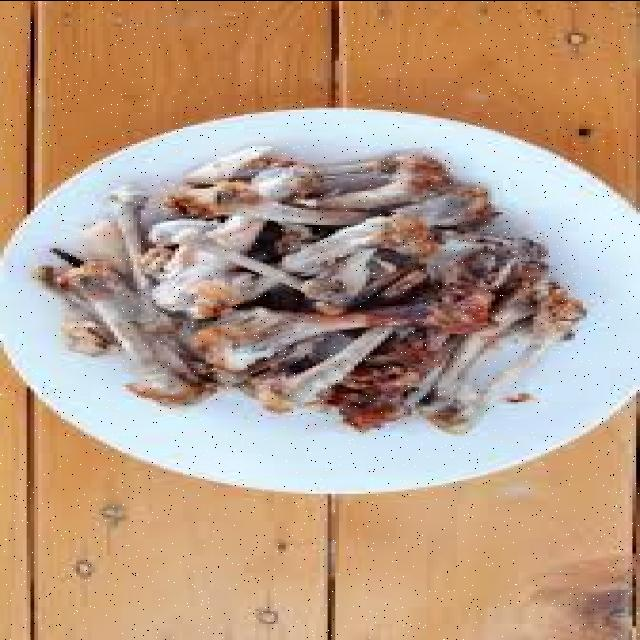Bones: (34, 147, 583, 431)
